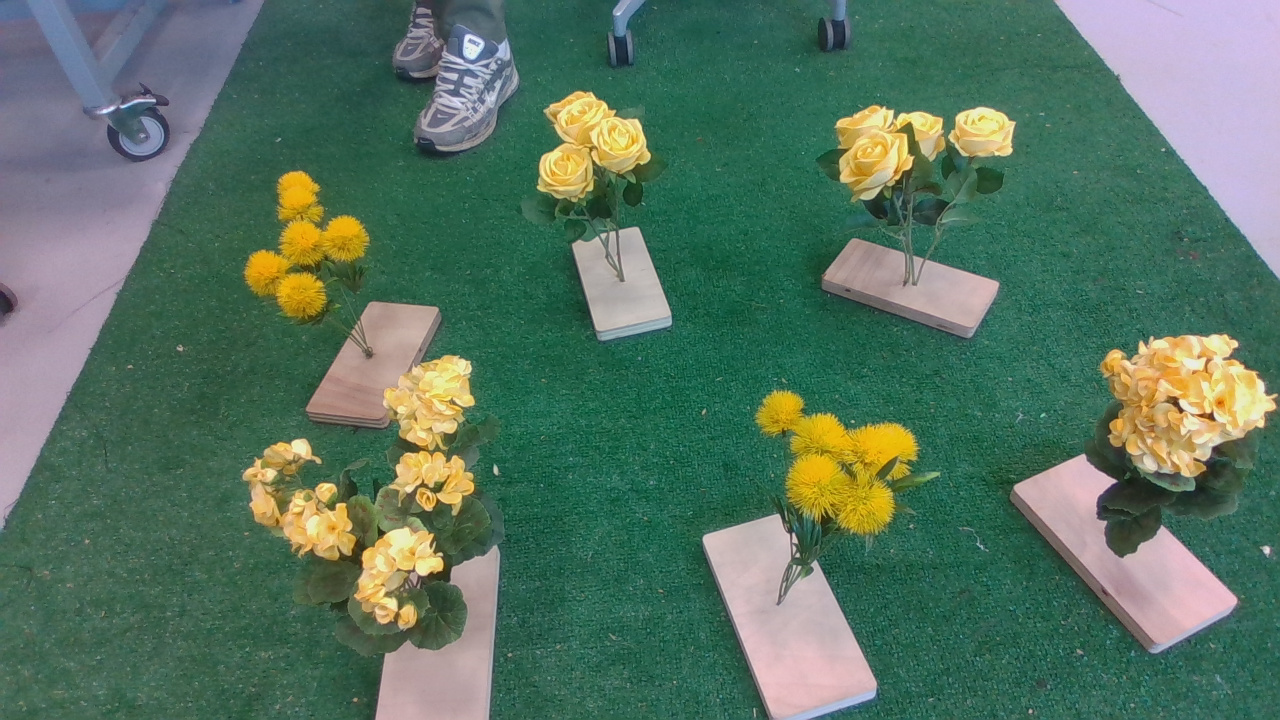dandelion: (750, 387, 951, 562), (232, 170, 382, 337)
geranium: (236, 357, 509, 670), (1085, 327, 1280, 568)
rose: (808, 107, 1030, 249), (520, 92, 680, 259)
